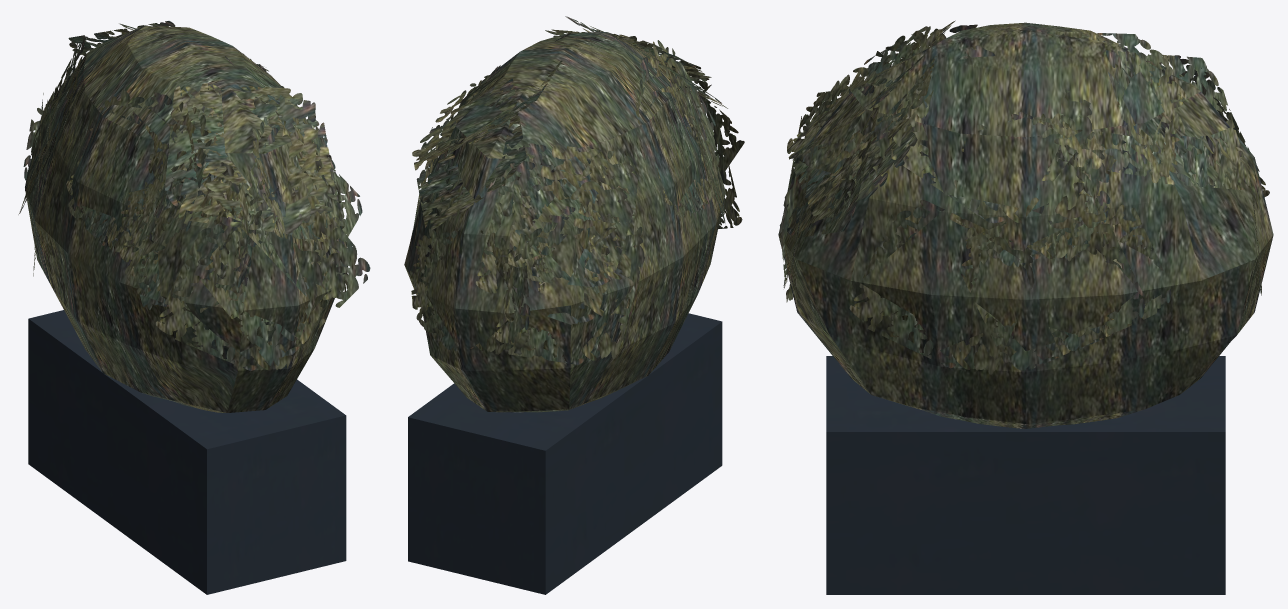
File: SM_Molo_FiorieraAntracite.fbx
3 renders of one model, left to right at view 1: azimuth 30°, elevation 25°; view 2: azimuth 150°, elevation 25°; view 3: azimuth 270°, elevation 25°, orthographic. The views are drawn at different scales.
Visible parts, largest first — view 1: SM_Molo_FiorieraAntracite; view 2: SM_Molo_FiorieraAntracite; view 3: SM_Molo_FiorieraAntracite.
Part boxes in pixels (box(x1,y1,x2,y2)): SM_Molo_FiorieraAntracite: box(18, 21, 370, 594); SM_Molo_FiorieraAntracite: box(404, 16, 744, 594); SM_Molo_FiorieraAntracite: box(778, 20, 1273, 594).
Size of what is drawn, in the model's own units: 77 by 124 by 145.
3 materials, 3 textured.
